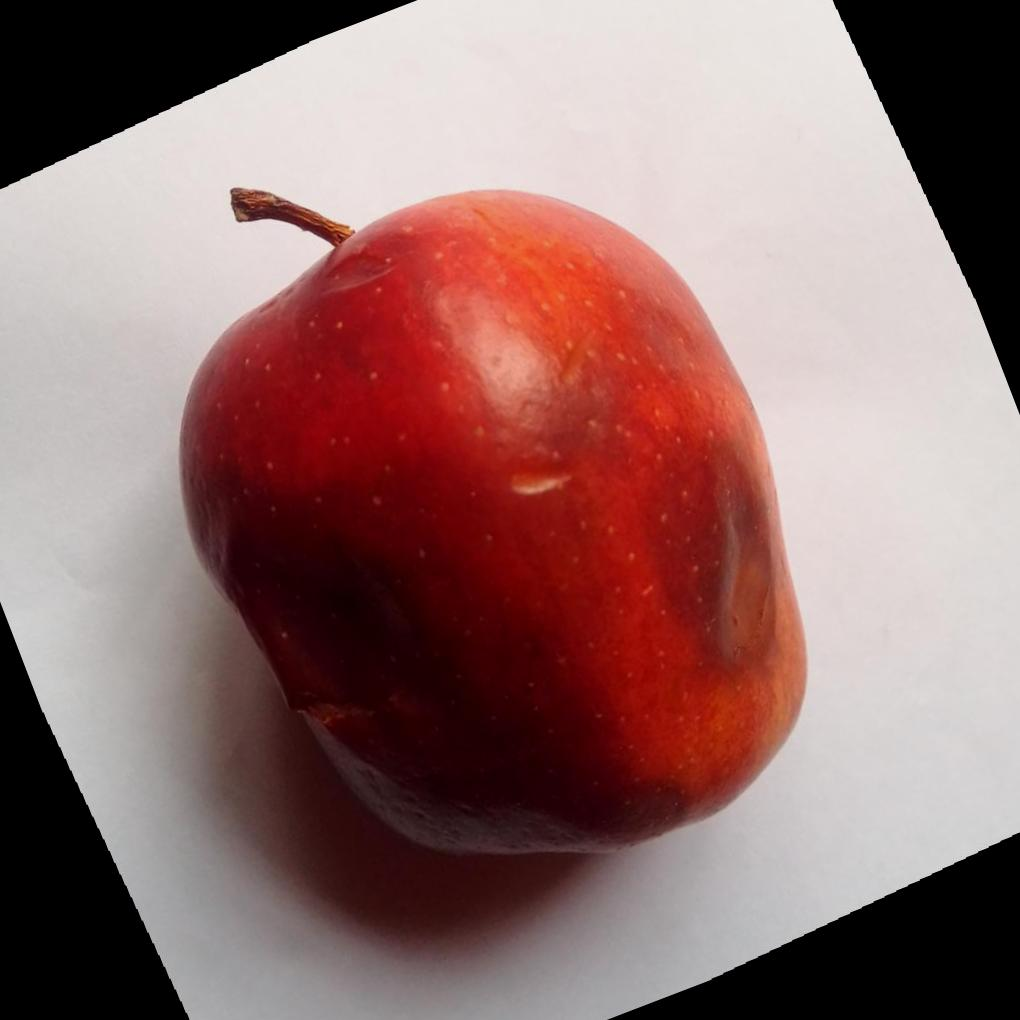FreshOrange: (173, 187, 806, 858)
